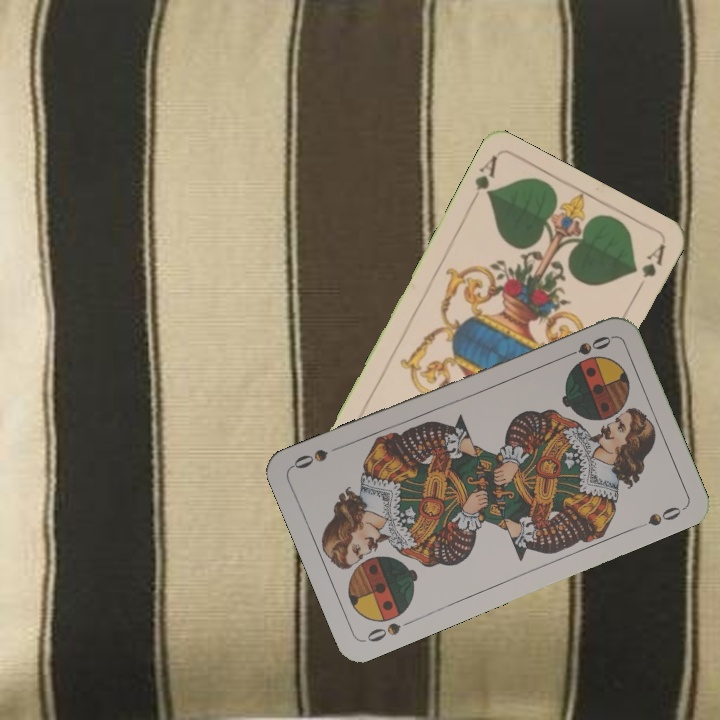GA: (470, 152, 500, 199)
SO: (361, 615, 418, 645), (558, 332, 614, 362)
